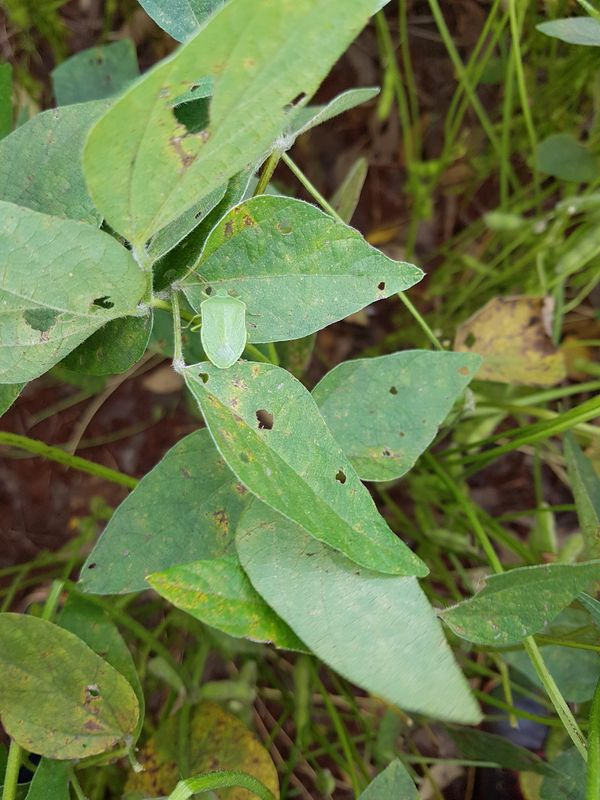Nezara_viridula_adulto: (178, 279, 262, 375)
